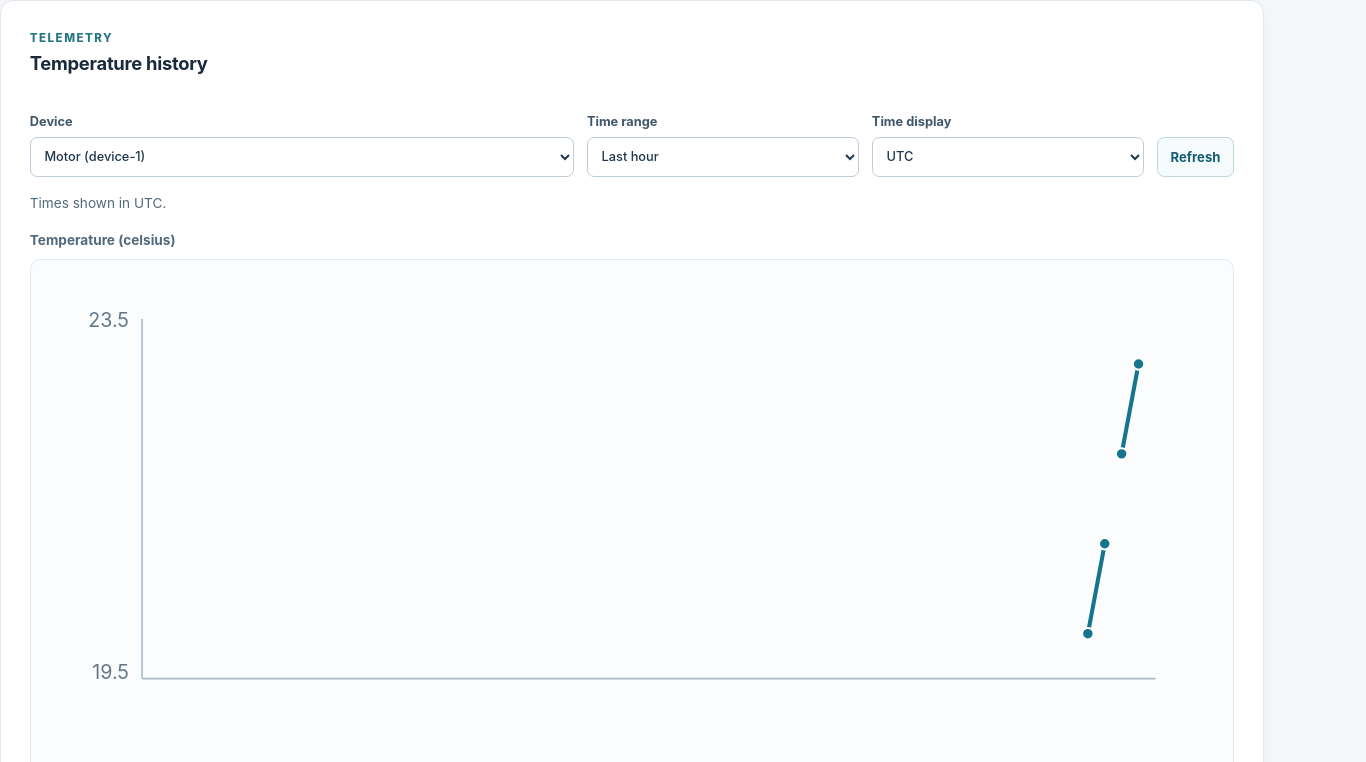
Test: one-device history › queries the selected device and range, labels units/timezone, and breaks lines at gaps
This screenshot has width=1366, height=762.
Expected: the text "Times shown in UTC." is shown, [30,195,166,211]
Select "Pump (device-2)" in the dropdown labelled "Device" at x=302, y=157, box [30,137,574,177]
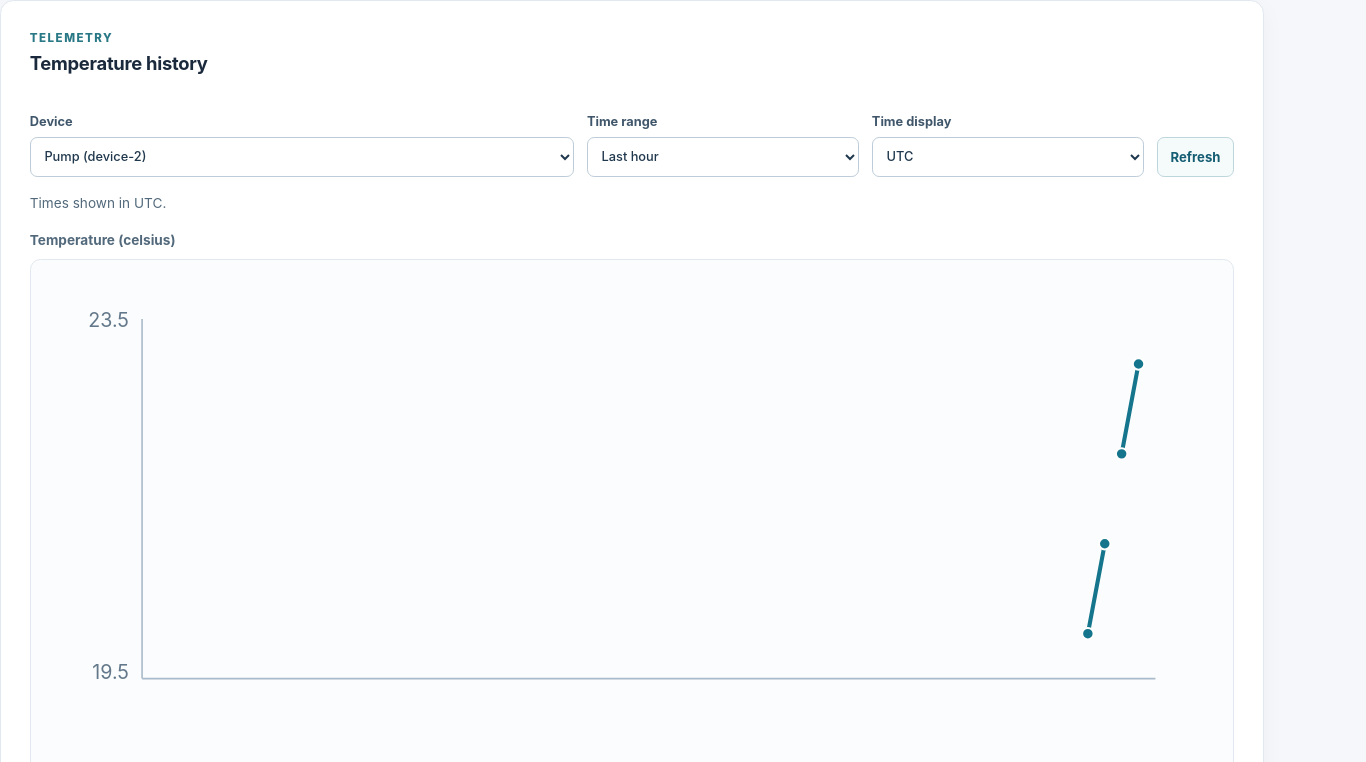
Select "Last 15 minutes" in the dropdown labelled "Time range" at x=723, y=157, box [587,137,859,177]
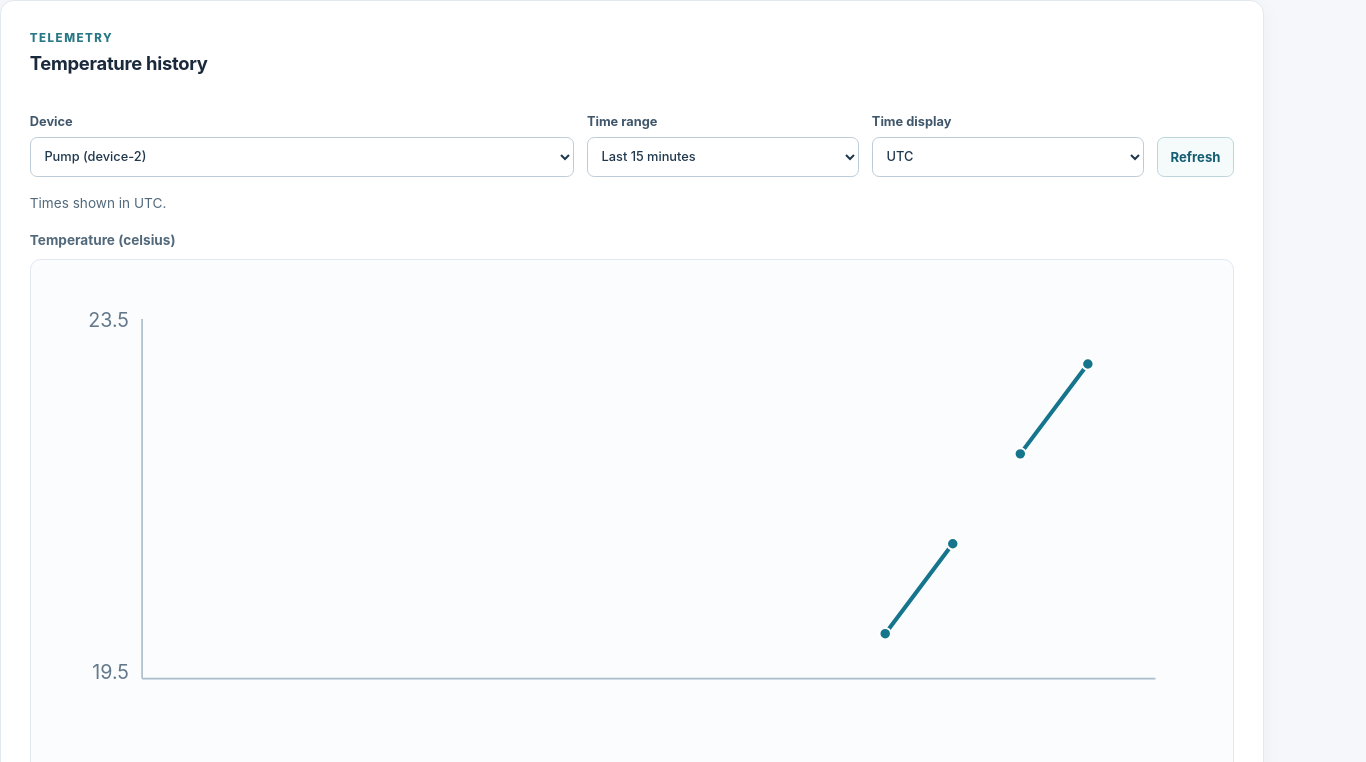
Select "Local (UTC)" in the dropdown labelled "Time display" at x=1008, y=157, box [872,137,1144,177]
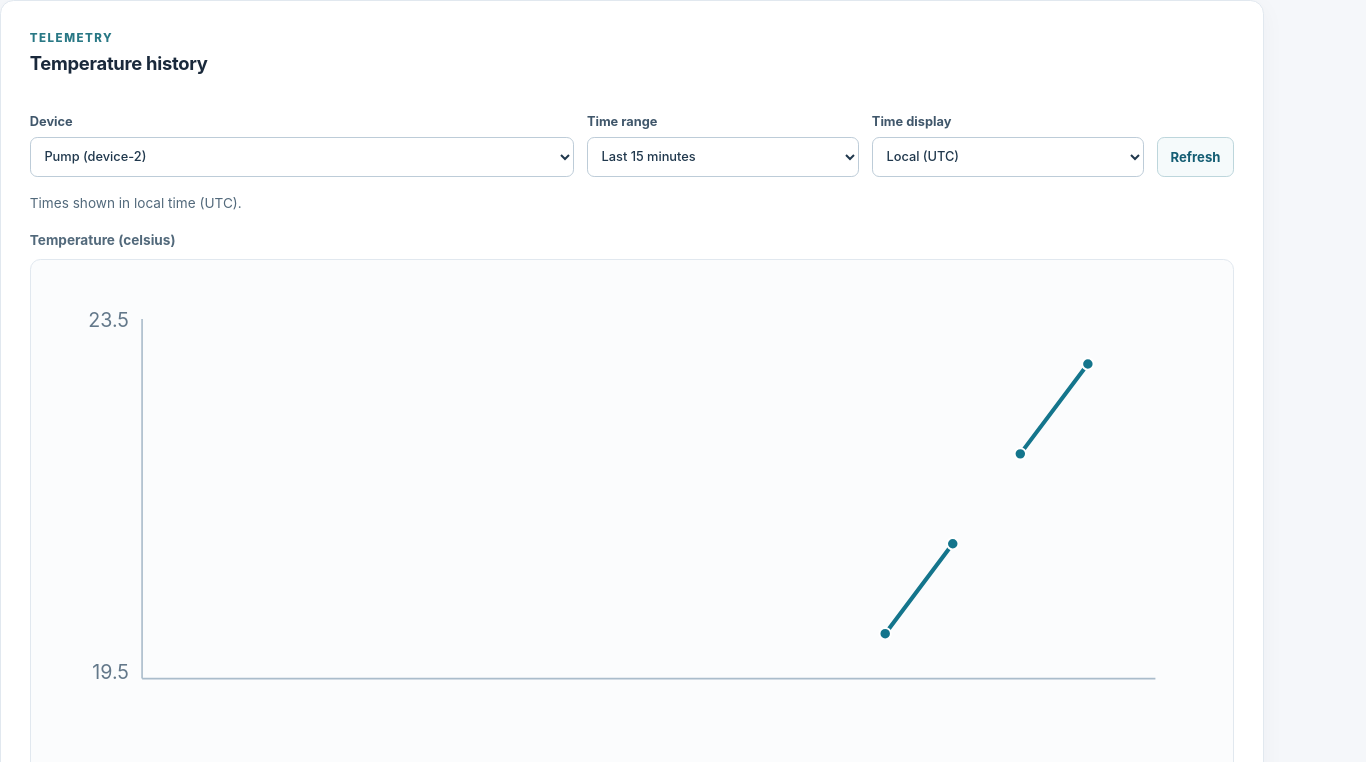
Expected: the text "Times shown in local time (UTC)." is shown, [30,195,242,211]
